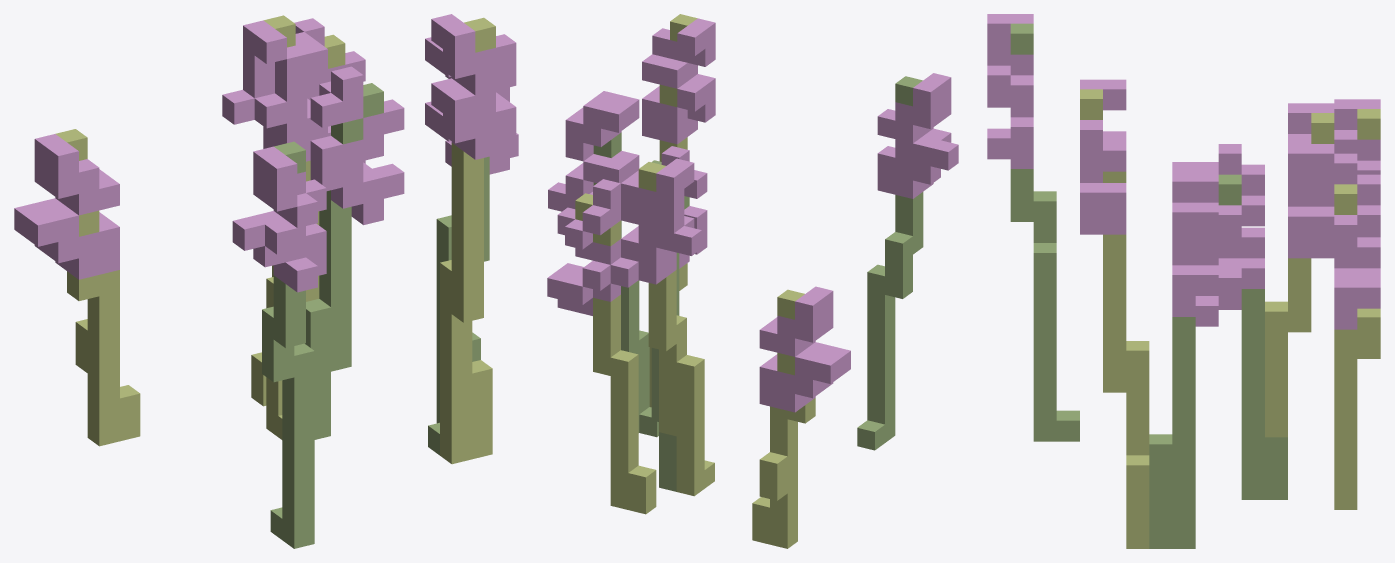
The model's file is bog_loosestrife.glb.
3 renders of one model, left to right at view 1: azimuth 30°, elevation 25°; view 2: azimuth 150°, elevation 25°; view 3: azimuth 270°, elevation 25°, orthographic. The views are drawn at different scales.
Bounding box in the file's own units: 0.8333 × 0.875 × 0.7083.
